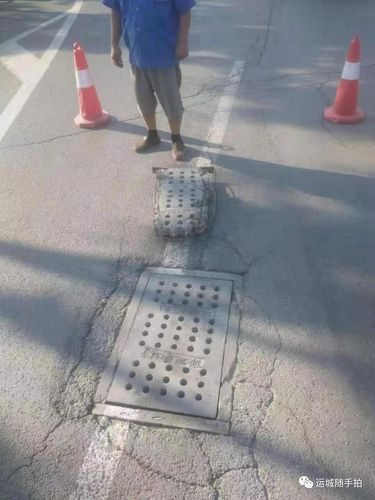circle: (48, 246, 289, 482)
